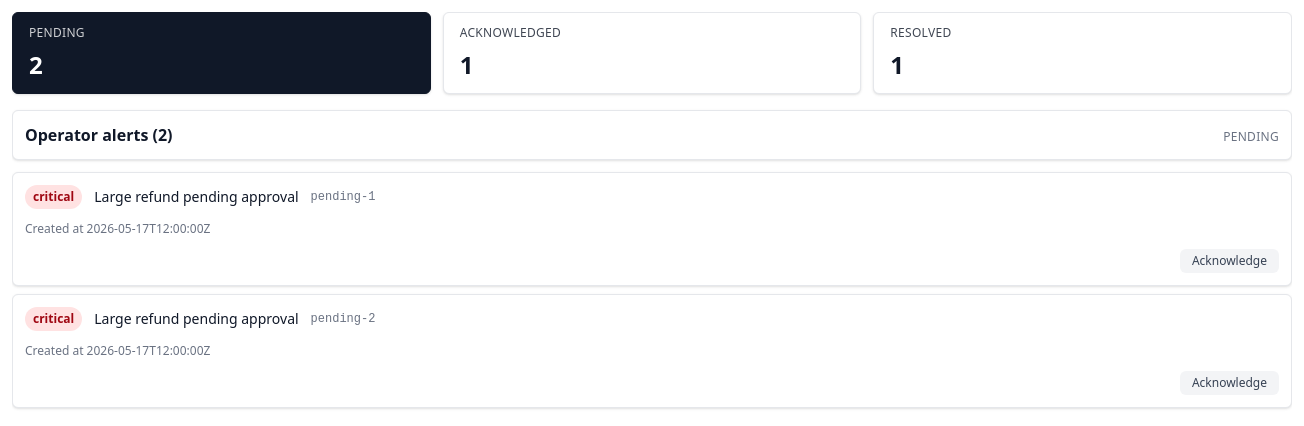
Test: OperatorAlertCentre › renders summary cards and lets operators switch between pending, acknowledged, and resolved queues
This screenshot has width=1304, height=426.
expect the text with test id "operator-alert-summary-pending" reads "2": met, box 29,48 -> 43,81
expect the text with test id "operator-alert-summary-acknowledged" reads "1": met, box 460,48 -> 473,81
Click the button with test id "operator-alert-queue-acknowledged" at x=510, y=32, box 443,12 -> 861,94
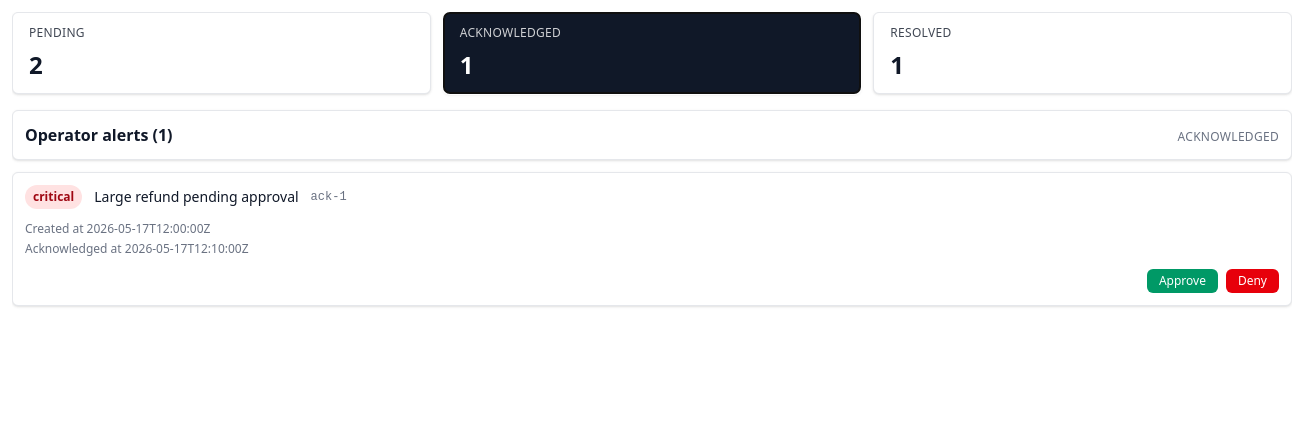
expect the list item with test id "operator-alert-ack-1" is shown: met, box 12,172 -> 1292,306
Click the button with test id "operator-alert-queue-resolved" at x=921, y=32, box 873,12 -> 1292,94
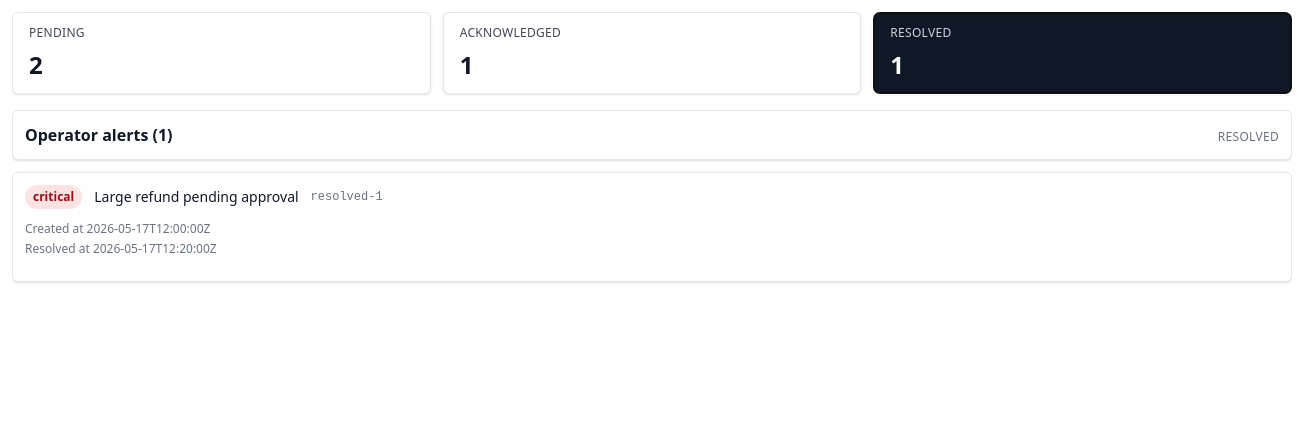
expect the list item with test id "operator-alert-resolved-1" is shown: met, box 12,172 -> 1292,282
